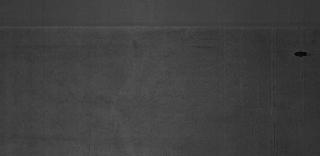punching hole: (292, 50, 310, 57)
silk spot: (4, 39, 260, 151)
welding line: (2, 18, 316, 34)
